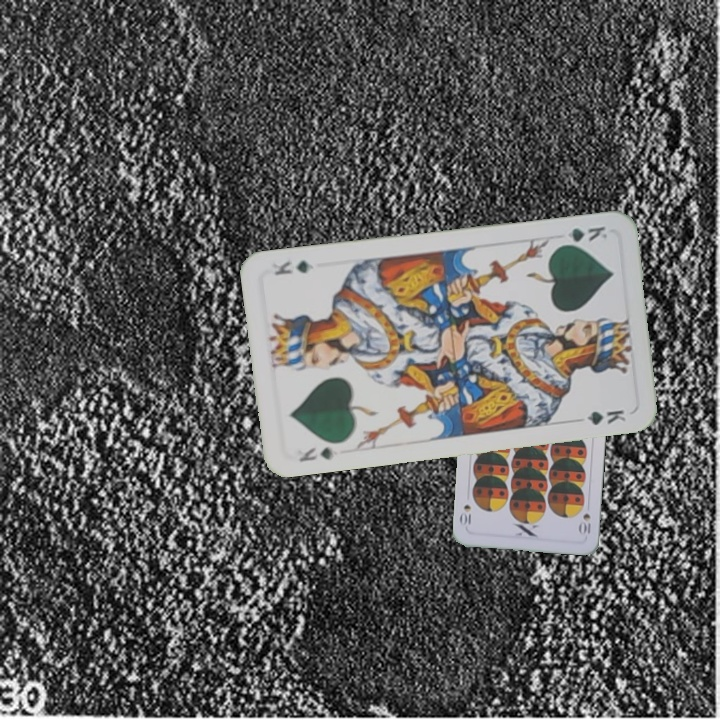GK: (554, 222, 610, 249), (295, 443, 337, 464)
S10: (576, 509, 593, 537)
